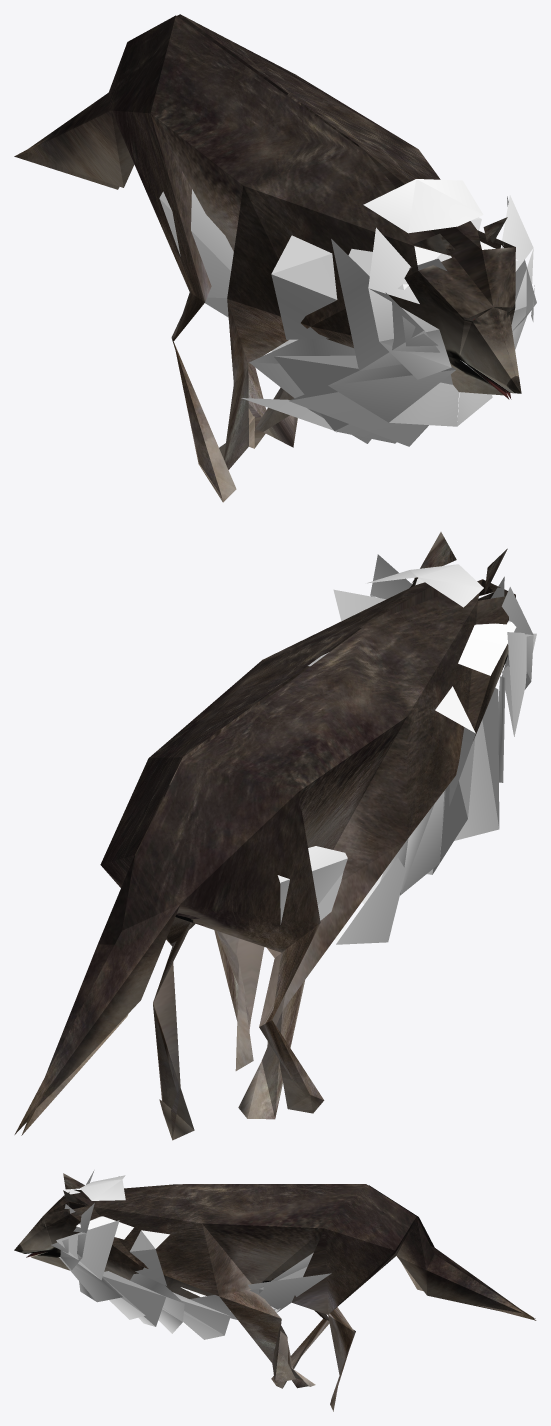
The model's file is stalker.glb.
3 views of the same model, one above another, from view 1: azimuth 30°, elevation 25°; view 2: azimuth 150°, elevation 25°; view 3: azimuth 270°, elevation 25° (orthographic). The views are drawn at different scales.
Parts seen in each view (by area): view 1: stalker; view 2: stalker; view 3: stalker.
Boxes of the visible parts, left/top/right/bottom form: stalker: left=14, top=14, right=536, bottom=502; stalker: left=14, top=532, right=536, bottom=1140; stalker: left=14, top=1170, right=536, bottom=1411.
Size of the model in its own units: 0.2363 by 0.4497 by 0.9616.
Materials: 2 (1 with a texture image).
